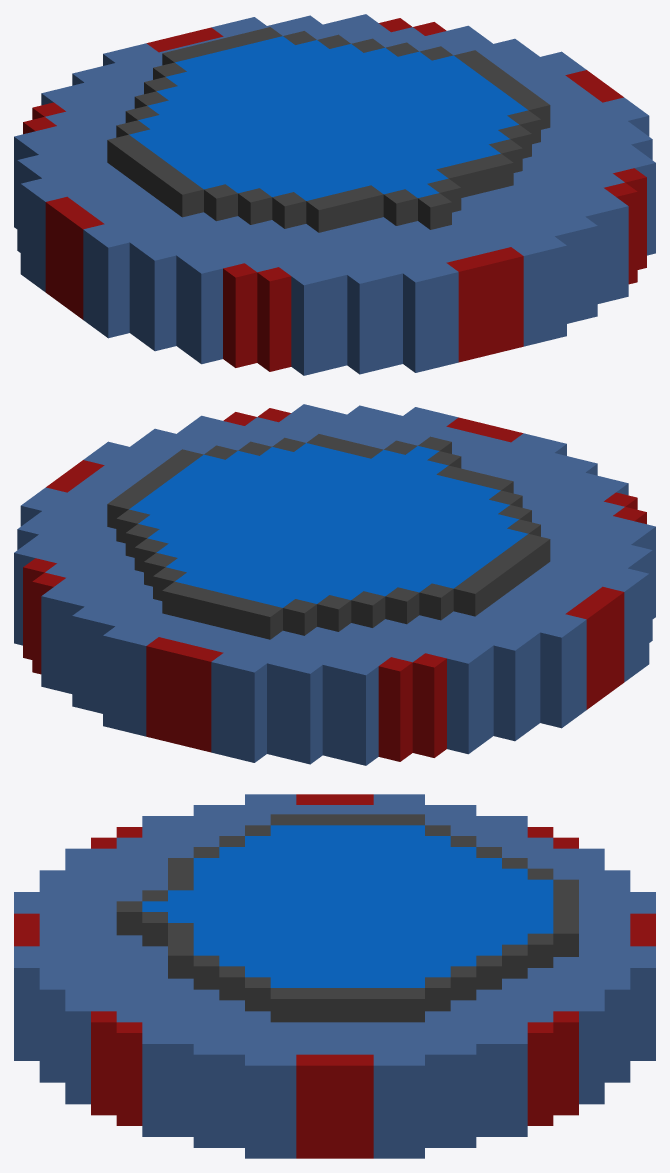
Rendered from shield.obj.
3 renders of one model, top to bottom at view 1: azimuth 30°, elevation 25°; view 2: azimuth 150°, elevation 25°; view 3: azimuth 270°, elevation 25°, orthographic. The views are drawn at different scales.
Bounding box in the file's own units: 2.5 × 0.5 × 2.5.
1 material, 1 textured.
